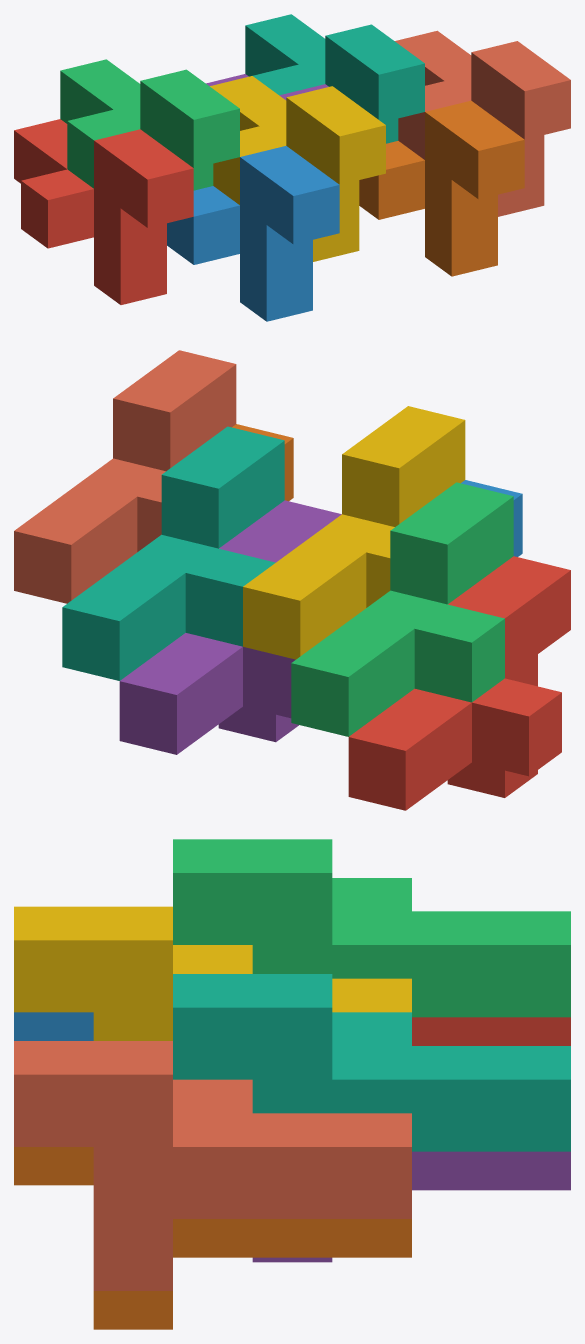
Rendered from tiling.obj.
The picture shows the model from 3 angles, top to bottom: view 1: azimuth 30°, elevation 25°; view 2: azimuth 150°, elevation 25°; view 3: azimuth 270°, elevation 25°; orthographic projection. The views are drawn at different scales.
Visible parts, largest first — view 1: copy_1_domain_1, copy_1_domain_2, copy_1_domain_6, copy_1_domain_3, copy_1_domain_8, copy_1_domain_4, copy_1_domain_7; view 2: copy_1_domain_3, copy_1_domain_7, copy_1_domain_1, copy_1_domain_4, copy_1_domain_8, copy_1_domain_5, copy_1_domain_2, copy_1_domain_6; view 3: copy_1_domain_8, copy_1_domain_7, copy_1_domain_3, copy_1_domain_4, copy_1_domain_6, copy_1_domain_5, copy_1_domain_1, copy_1_domain_2.
Boxes of the visible parts, <box> form: copy_1_domain_1: <box>14,119,193,304</box>; copy_1_domain_2: <box>167,146,339,321</box>; copy_1_domain_6: <box>359,100,524,276</box>; copy_1_domain_3: <box>60,59,239,190</box>; copy_1_domain_8: <box>395,30,570,216</box>; copy_1_domain_4: <box>210,76,385,261</box>; copy_1_domain_7: <box>245,14,424,143</box>; copy_1_domain_3: <box>291,482,513,736</box>; copy_1_domain_7: <box>62,426,284,680</box>; copy_1_domain_1: <box>348,556,570,810</box>; copy_1_domain_4: <box>243,406,465,659</box>; copy_1_domain_8: <box>14,350,236,603</box>; copy_1_domain_5: <box>119,500,341,754</box>; copy_1_domain_2: <box>461,480,522,556</box>; copy_1_domain_6: <box>232,424,293,501</box>; copy_1_domain_8: <box>14,1041,411,1290</box>; copy_1_domain_7: <box>173,974,570,1151</box>; copy_1_domain_3: <box>173,839,570,1017</box>; copy_1_domain_4: <box>14,906,411,1040</box>; copy_1_domain_6: <box>14,1147,411,1329</box>; copy_1_domain_5: <box>252,1151,570,1262</box>; copy_1_domain_1: <box>412,1017,570,1045</box>; copy_1_domain_2: <box>14,1012,93,1040</box>.
Bounding box in the file's own units: 9 × 4 × 7.
